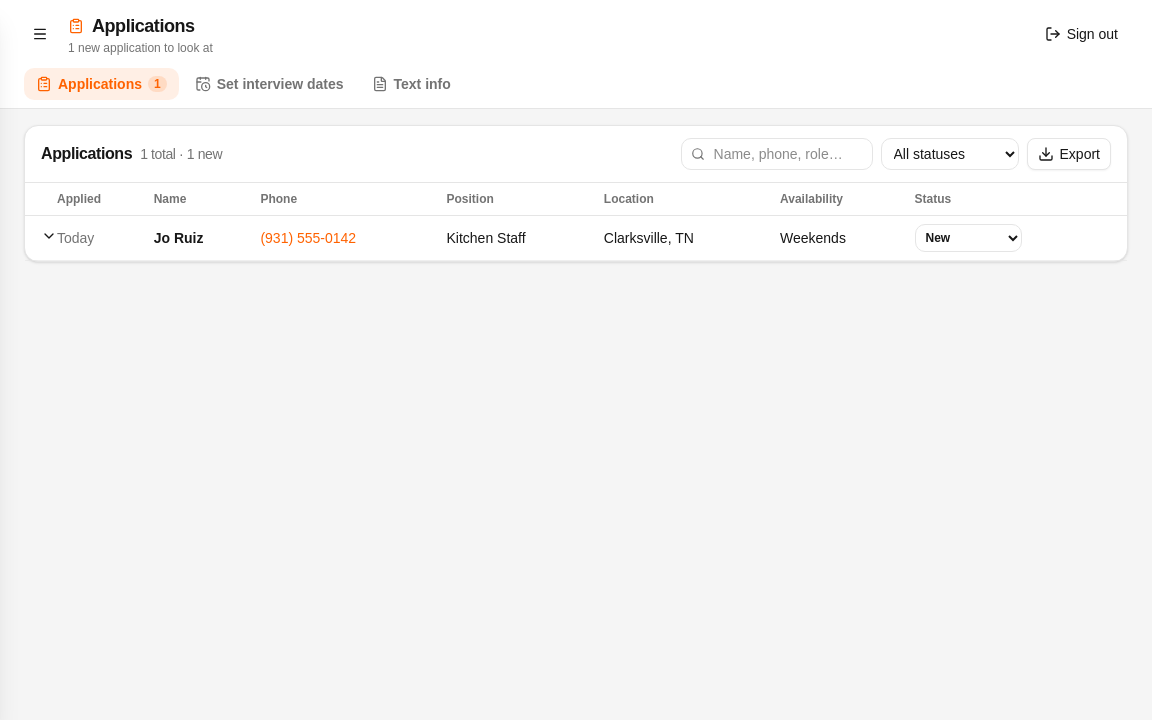
Test: setting an interview from an application › carries the applicant into the interview form and switches to it
Click the button named "Show Jo Ruiz's answers".
click(49, 236)  # box x1=41 y1=228 x2=57 y2=244
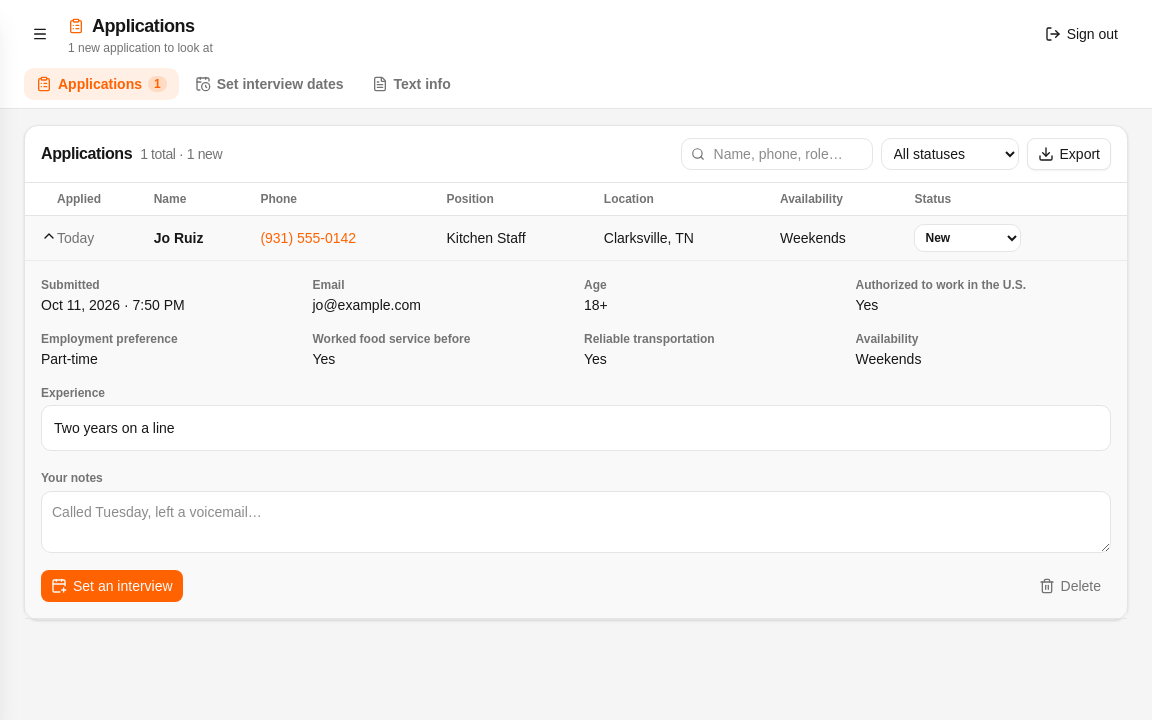
Click the button "Set an interview".
click(112, 586)  # box x1=41 y1=570 x2=183 y2=602
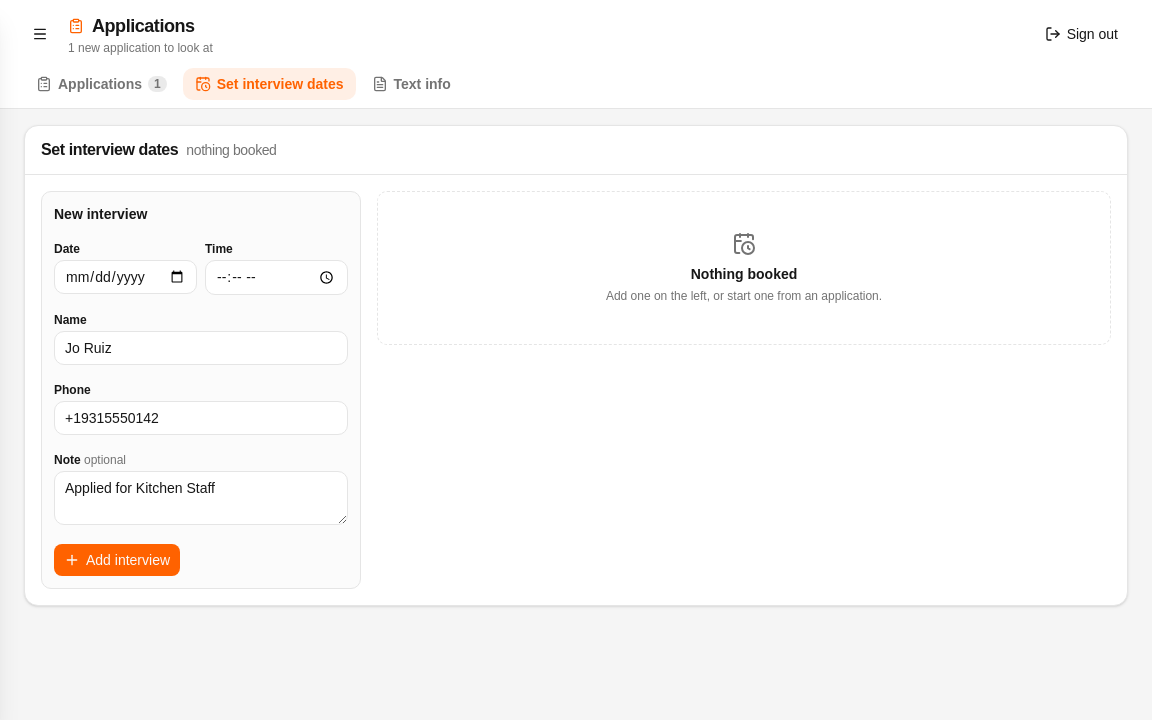
Result: the field labelled "Name" holds "Jo Ruiz" at x1=54 y1=331 x2=348 y2=365
Result: the field labelled "Phone" holds "+19315550142" at x1=54 y1=401 x2=348 y2=435
Result: the date field labelled "Date" is empty at x1=54 y1=260 x2=197 y2=294
